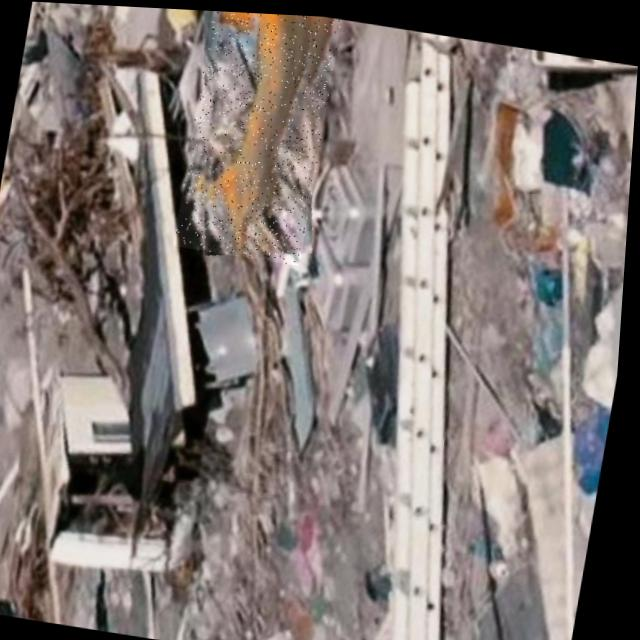Person in Rubble: (175, 8, 341, 262)
